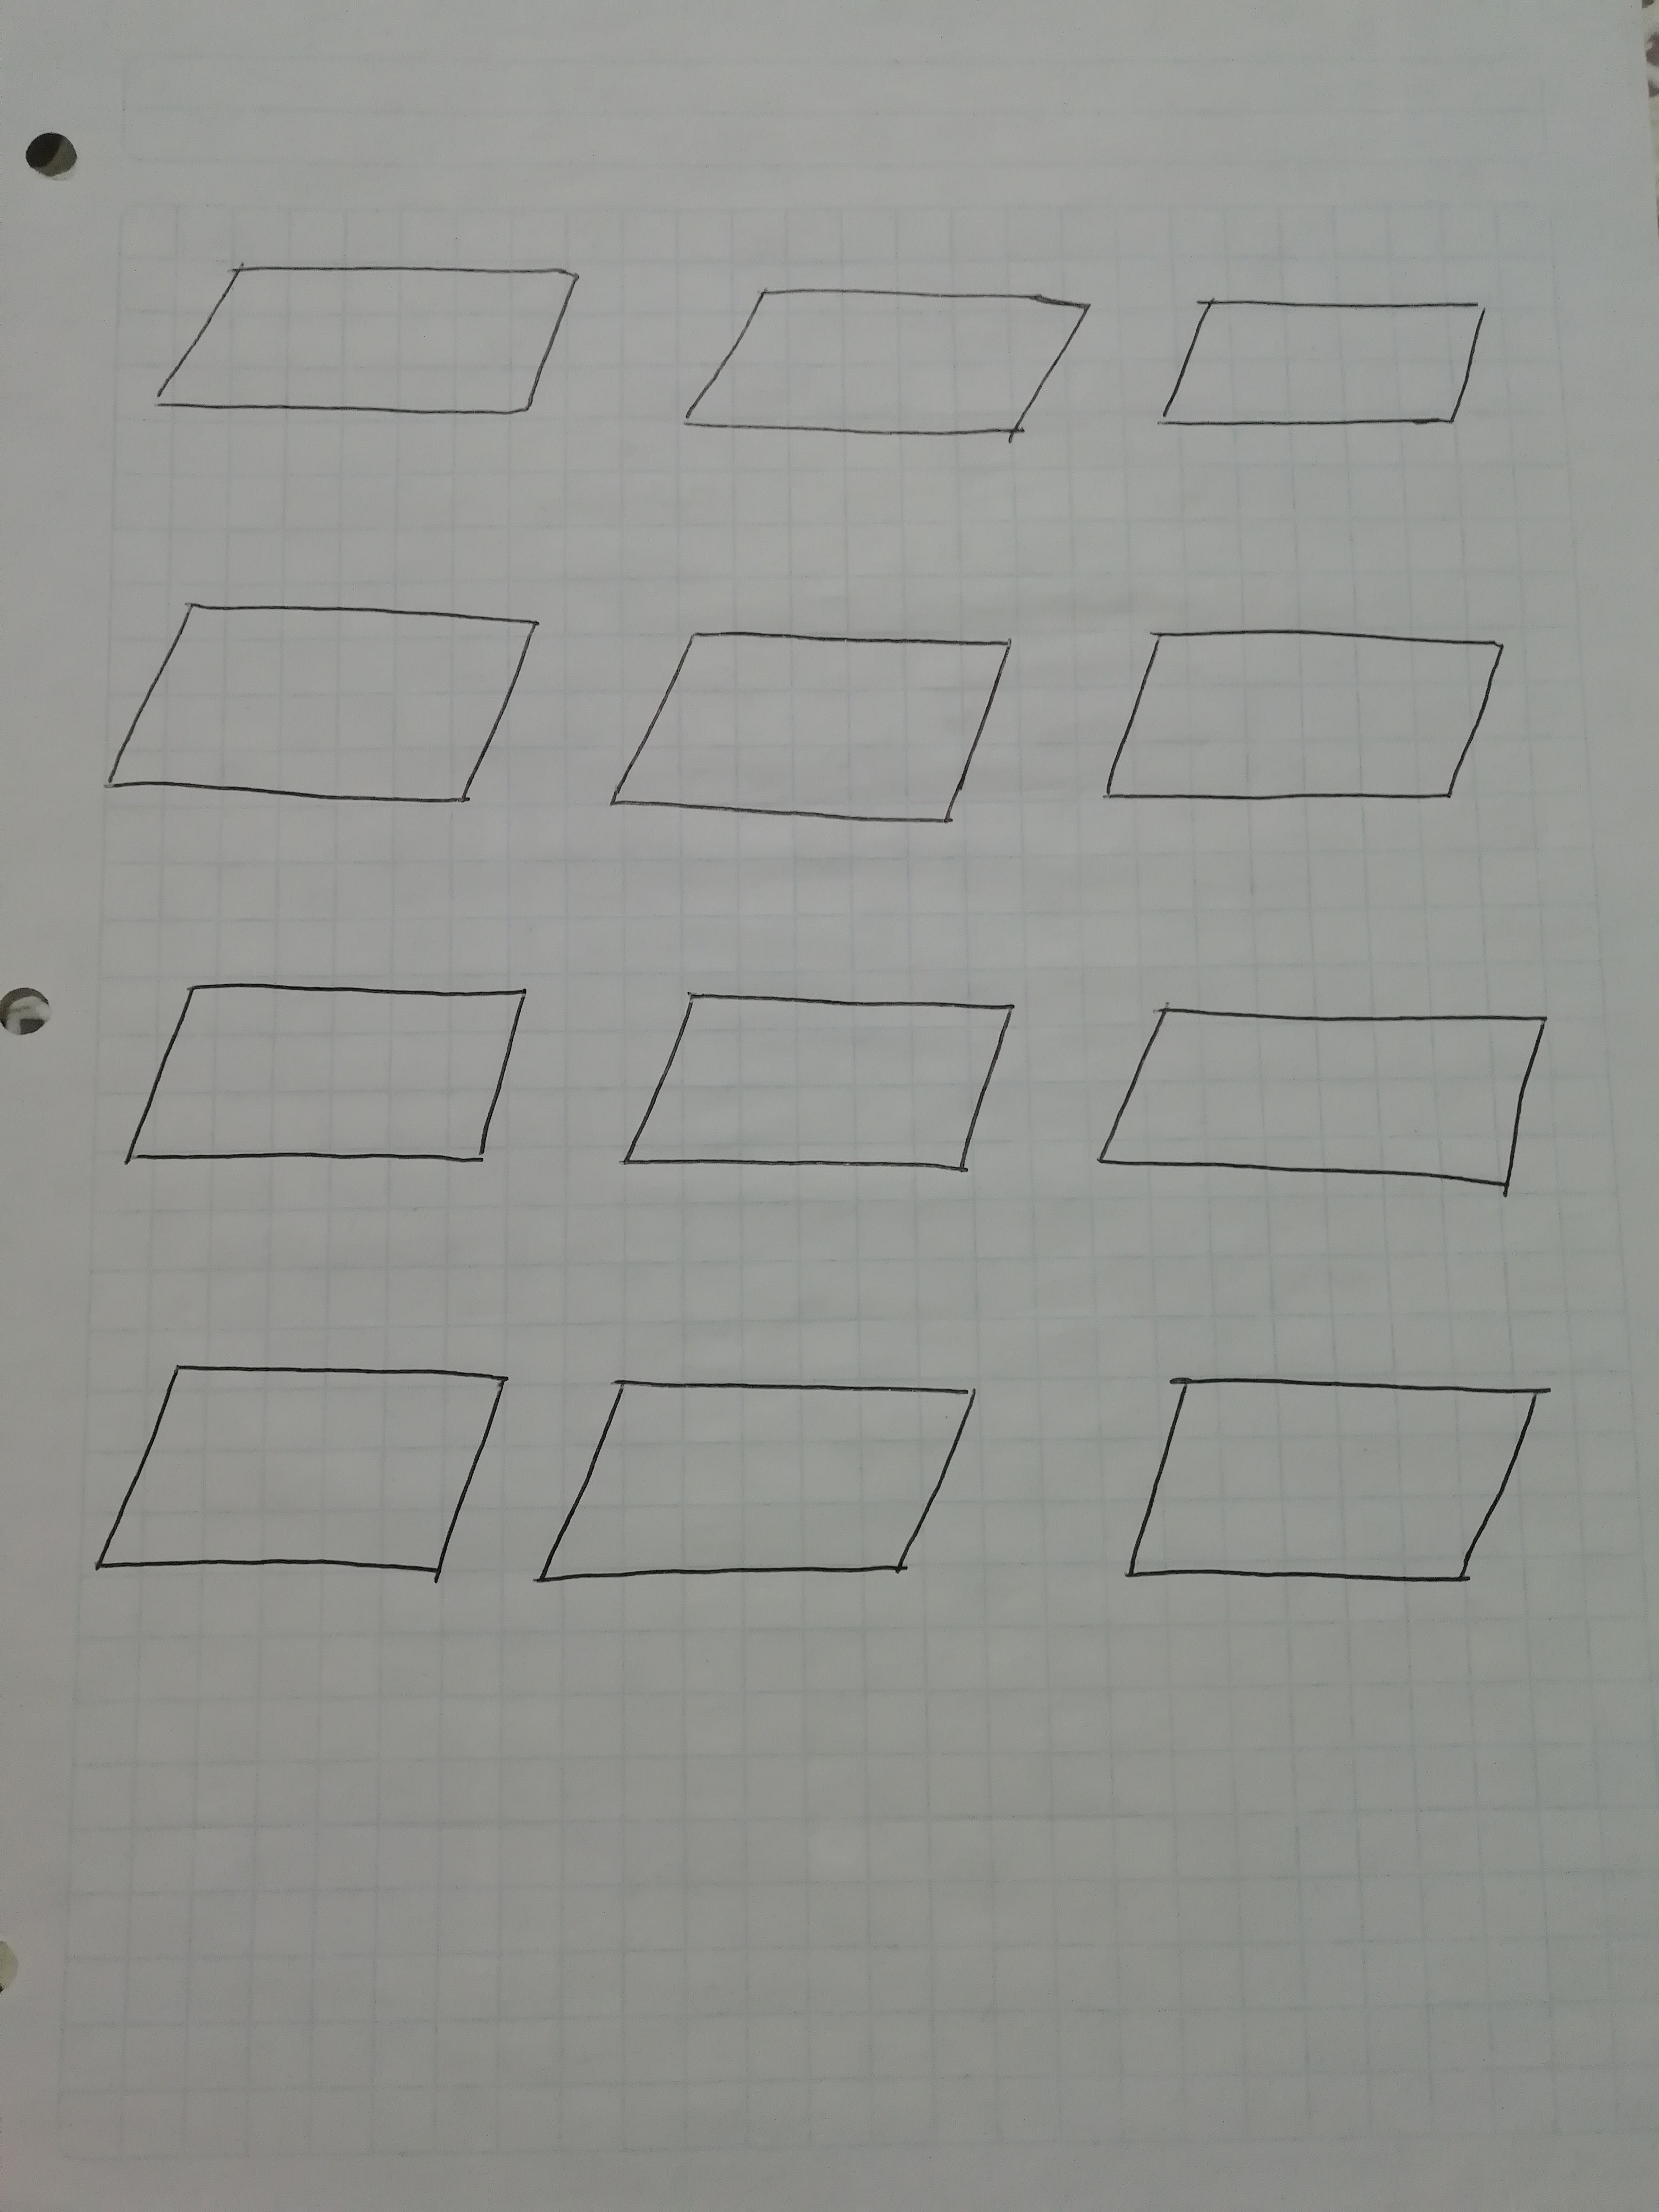scan: (54, 578, 561, 857), (77, 1322, 519, 1634), (1082, 970, 1586, 1244), (1108, 1357, 1582, 1644), (530, 1353, 1019, 1627), (587, 599, 1054, 880), (91, 963, 561, 1219), (125, 237, 622, 470), (1082, 606, 1561, 846), (657, 247, 1122, 493), (608, 968, 1044, 1223), (1133, 263, 1530, 469)
